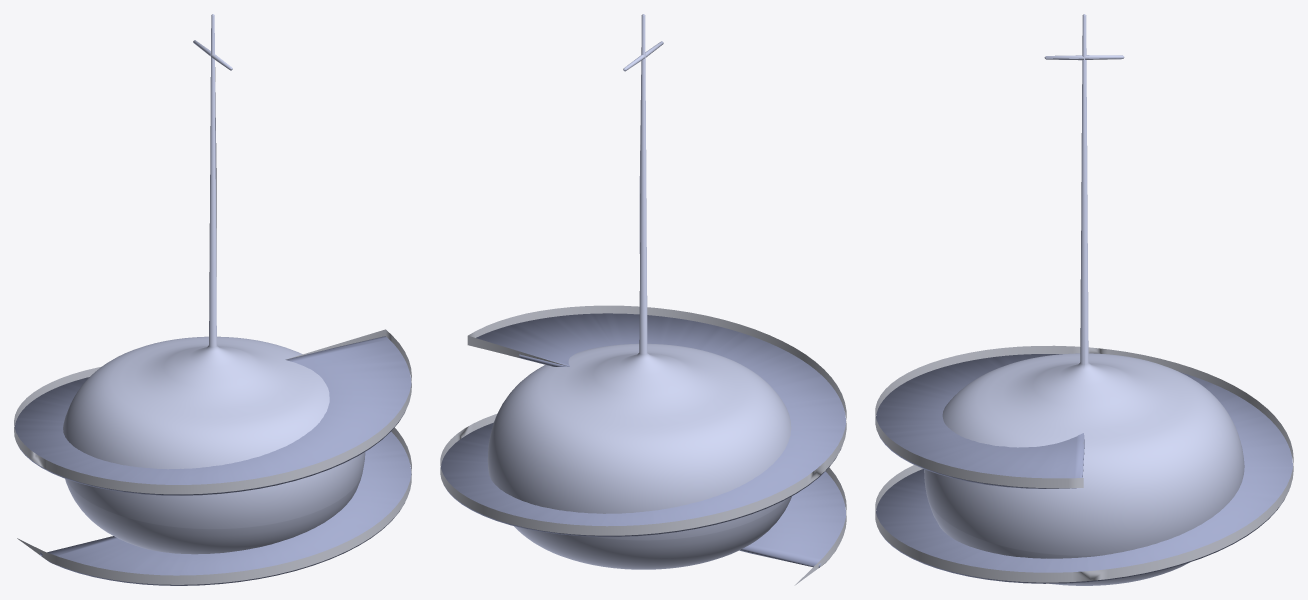
The model's file is ChurchCorrect2.fbx.
The picture shows the model from 3 angles, left to right: view 1: azimuth 30°, elevation 25°; view 2: azimuth 150°, elevation 25°; view 3: azimuth 270°, elevation 25°; orthographic projection. The views are drawn at different scales.
Parts seen in each view (by area): view 1: Shape_IndexedFaceSet; view 2: Shape_IndexedFaceSet; view 3: Shape_IndexedFaceSet.
Part boxes in pixels (bbox=[...]): Shape_IndexedFaceSet: bbox=[14, 14, 411, 585]; Shape_IndexedFaceSet: bbox=[440, 14, 846, 585]; Shape_IndexedFaceSet: bbox=[875, 14, 1293, 585].
Bounding box in the file's own units: 10133 × 14102 × 10132.
